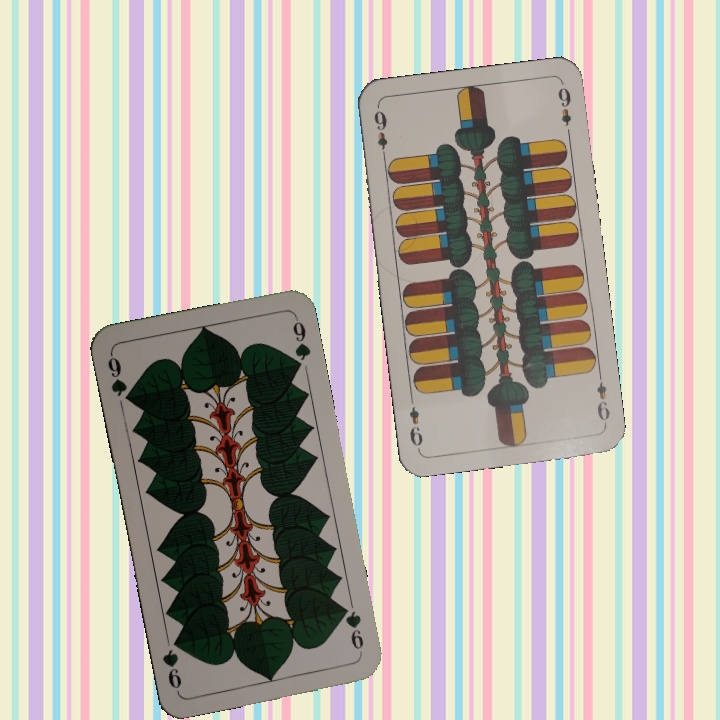E9: (593, 369, 612, 428), (370, 107, 390, 163)
G9: (103, 349, 135, 406), (337, 600, 366, 657)
